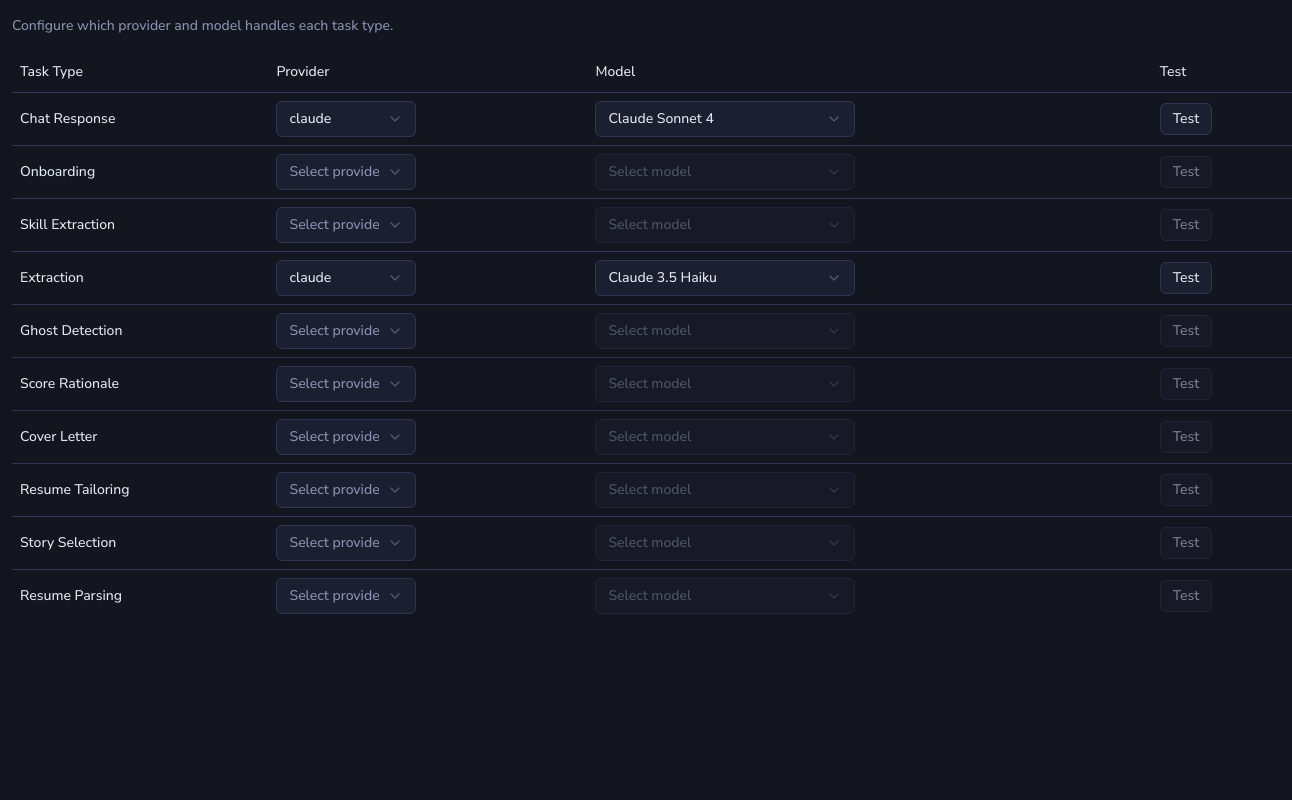
RoutingTab › shows success badge with latency on successful test
Check: the text "Extraction" is shown, box 12,251 -> 268,304
Click the button with test id "test-btn-extraction" at (1186, 278), box 1160,262 -> 1212,294
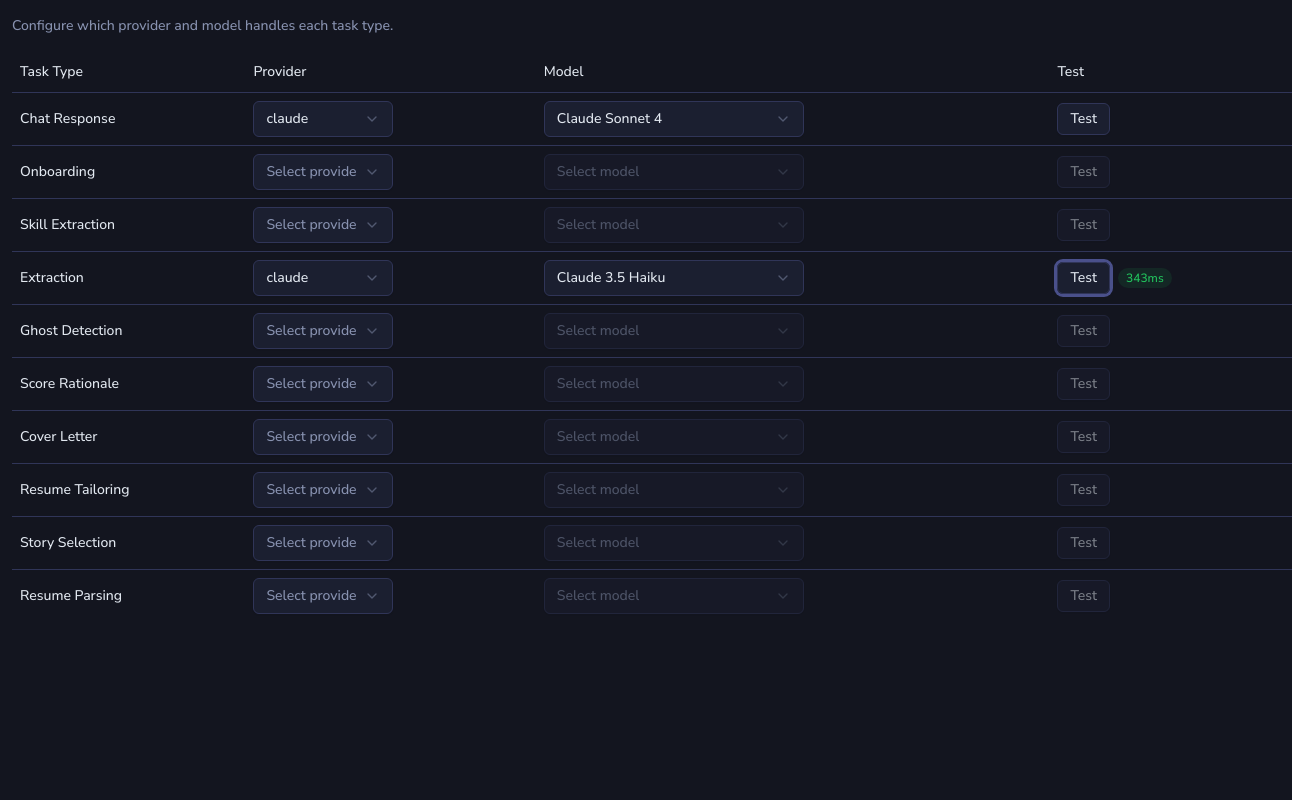
Check: the text with test id "test-result-extraction" reads "343ms", box 1118,268 -> 1172,288
